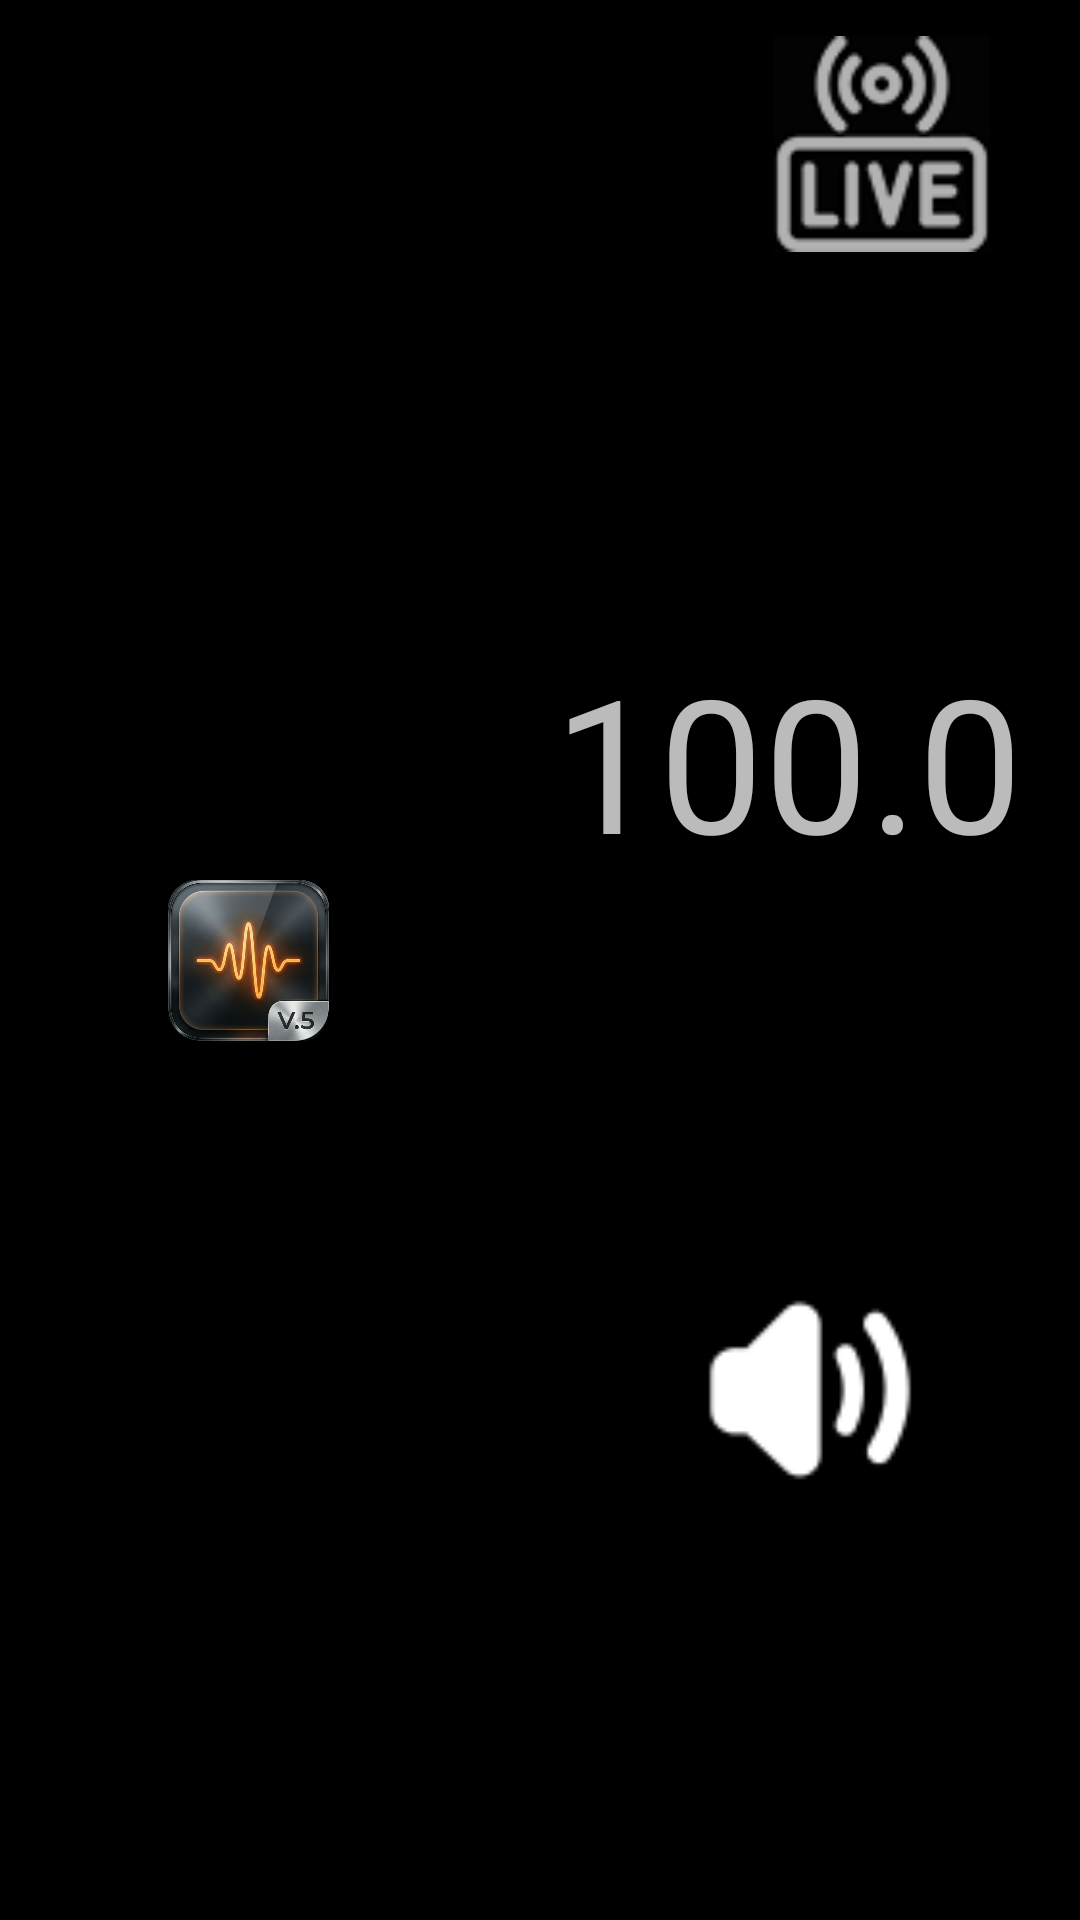

Named icons in this screenshot (1080px x 1920px) and their bounding boxes, (x1, y1, x2, y2):
radio mute: (709, 1300, 911, 1479)
